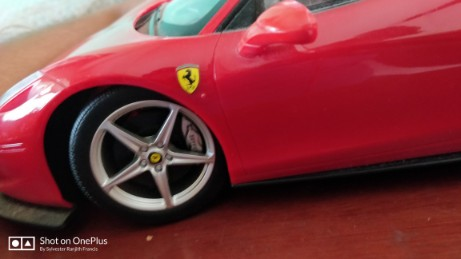unaligned_wheel: (43, 87, 242, 222)
